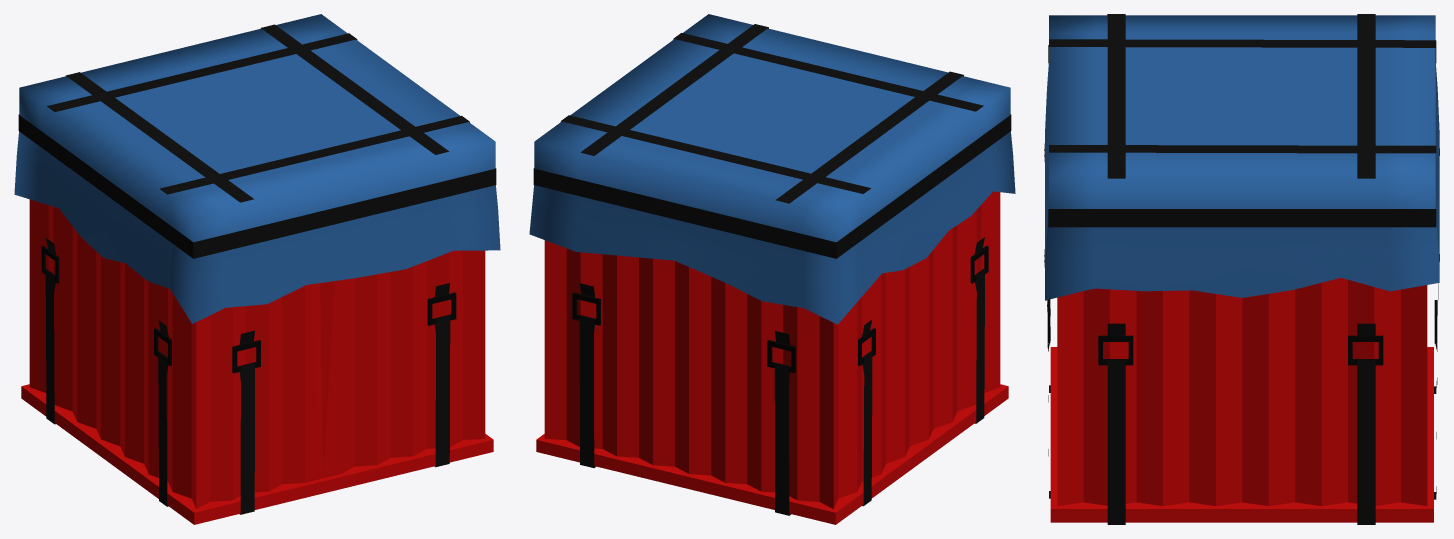
File: airdrop.temp_caseinsensitive_rename.dae
The picture shows the model from 3 angles, left to right: view 1: azimuth 30°, elevation 25°; view 2: azimuth 150°, elevation 25°; view 3: azimuth 270°, elevation 25°; orthographic projection. The views are drawn at different scales.
Parts seen in each view (by area): view 1: Cube_003, Cube, Cube_004, Cube_005, Cube_001; view 2: Cube_003, Cube, Cube_004, Cube_005, Cube_001; view 3: Cube_003, Cube, Cube_004, Cube_001, Cube_005.
Part boxes in pixels (x1,y1,x2,y2): Cube_003: (14,14,500,323); Cube: (29,199,485,508); Cube_004: (41,24,469,514); Cube_005: (18,114,496,258); Cube_001: (21,384,493,524); Cube_003: (529,14,1015,324); Cube: (544,191,1000,508); Cube_004: (561,24,988,515); Cube_005: (533,114,1011,258); Cube_001: (536,384,1008,524); Cube_003: (1045,15,1439,300); Cube: (1057,278,1427,506); Cube_004: (1044,14,1439,524); Cube_001: (1050,347,1433,522); Cube_005: (1048,45,1436,227).
Size of the model in its own units: 2.14 by 2.07 by 2.14.
